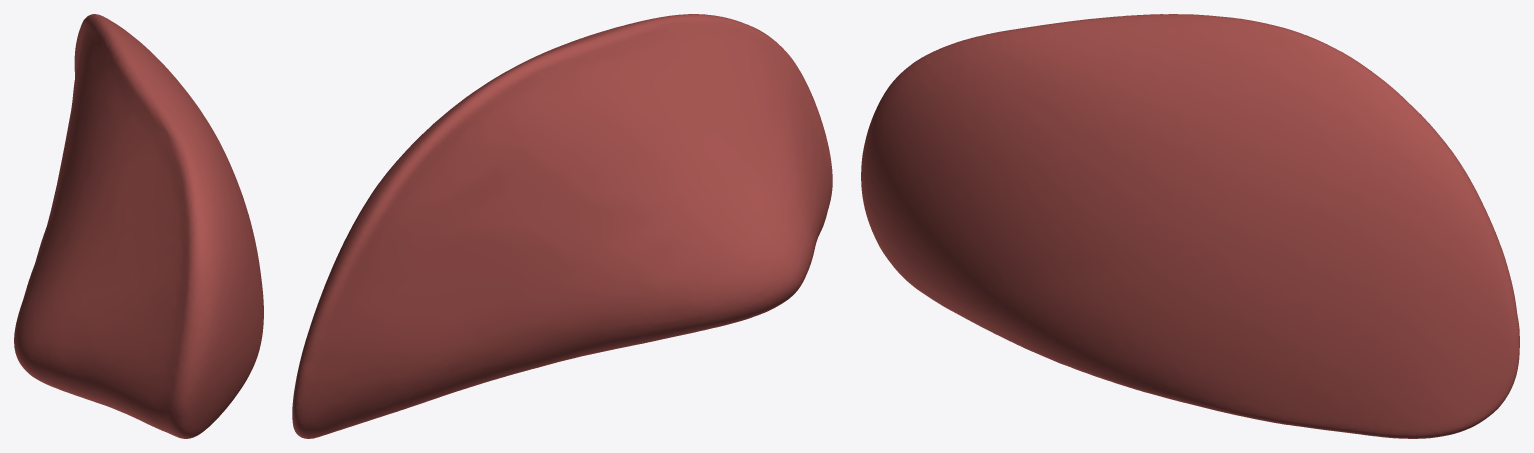
Rendered from FMA72831.glb.
3 views of the same model, side by side, from view 1: azimuth 30°, elevation 25°; view 2: azimuth 150°, elevation 25°; view 3: azimuth 270°, elevation 25° (orthographic). The views are drawn at different scales.
Visible parts, largest first — view 1: FMA72831; view 2: FMA72831; view 3: FMA72831.
Boxes of the visible parts, x1,y1,x2,y2 form: FMA72831: (14,14,263,438); FMA72831: (292,14,832,438); FMA72831: (861,14,1519,438).
Bounding box in the file's own units: 0.0158 × 0.0163 × 0.0276.
